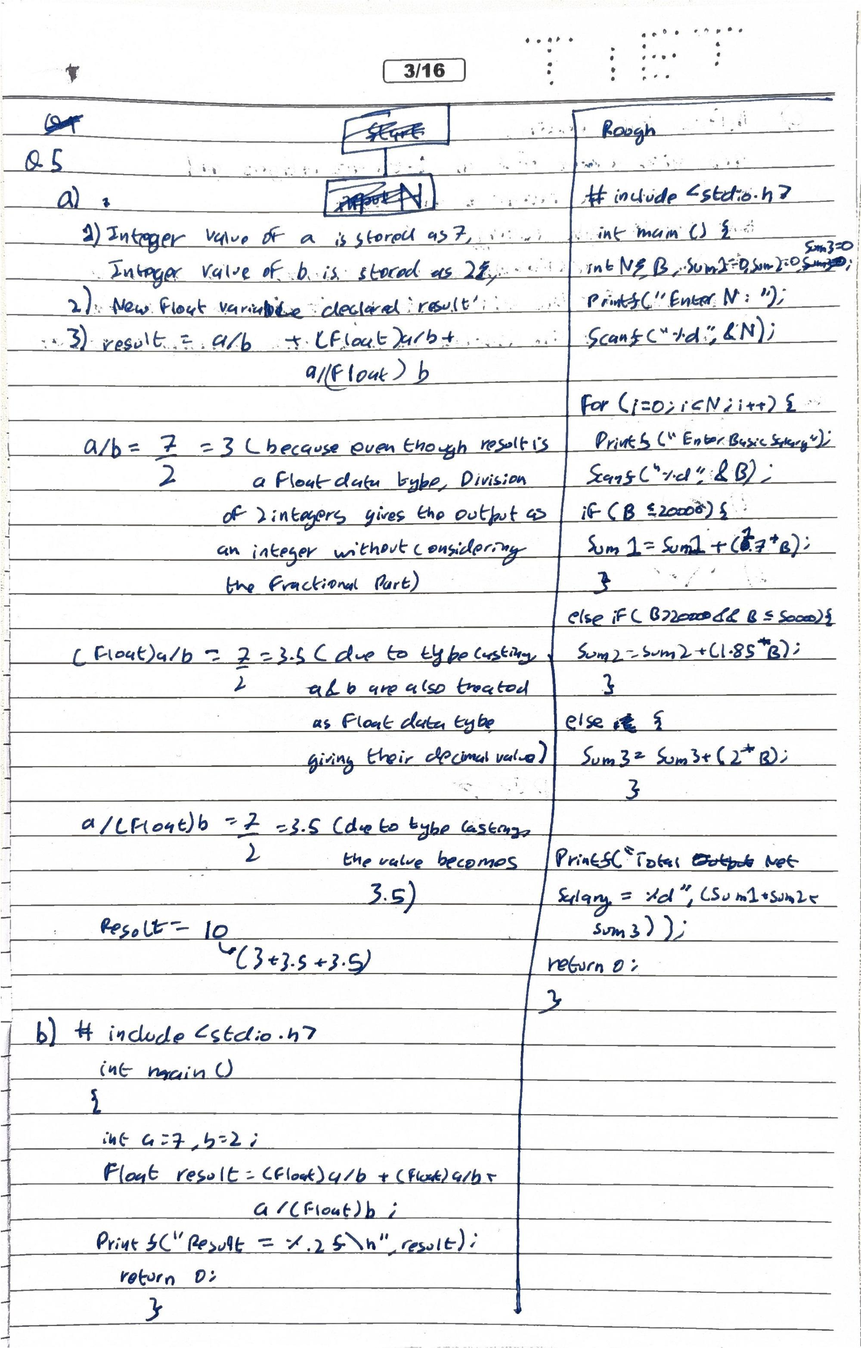cuttings: (328, 180, 425, 214), (345, 120, 428, 145), (689, 851, 755, 874), (42, 111, 85, 137), (802, 255, 847, 273), (611, 711, 639, 734), (474, 259, 490, 282), (738, 540, 751, 552)
